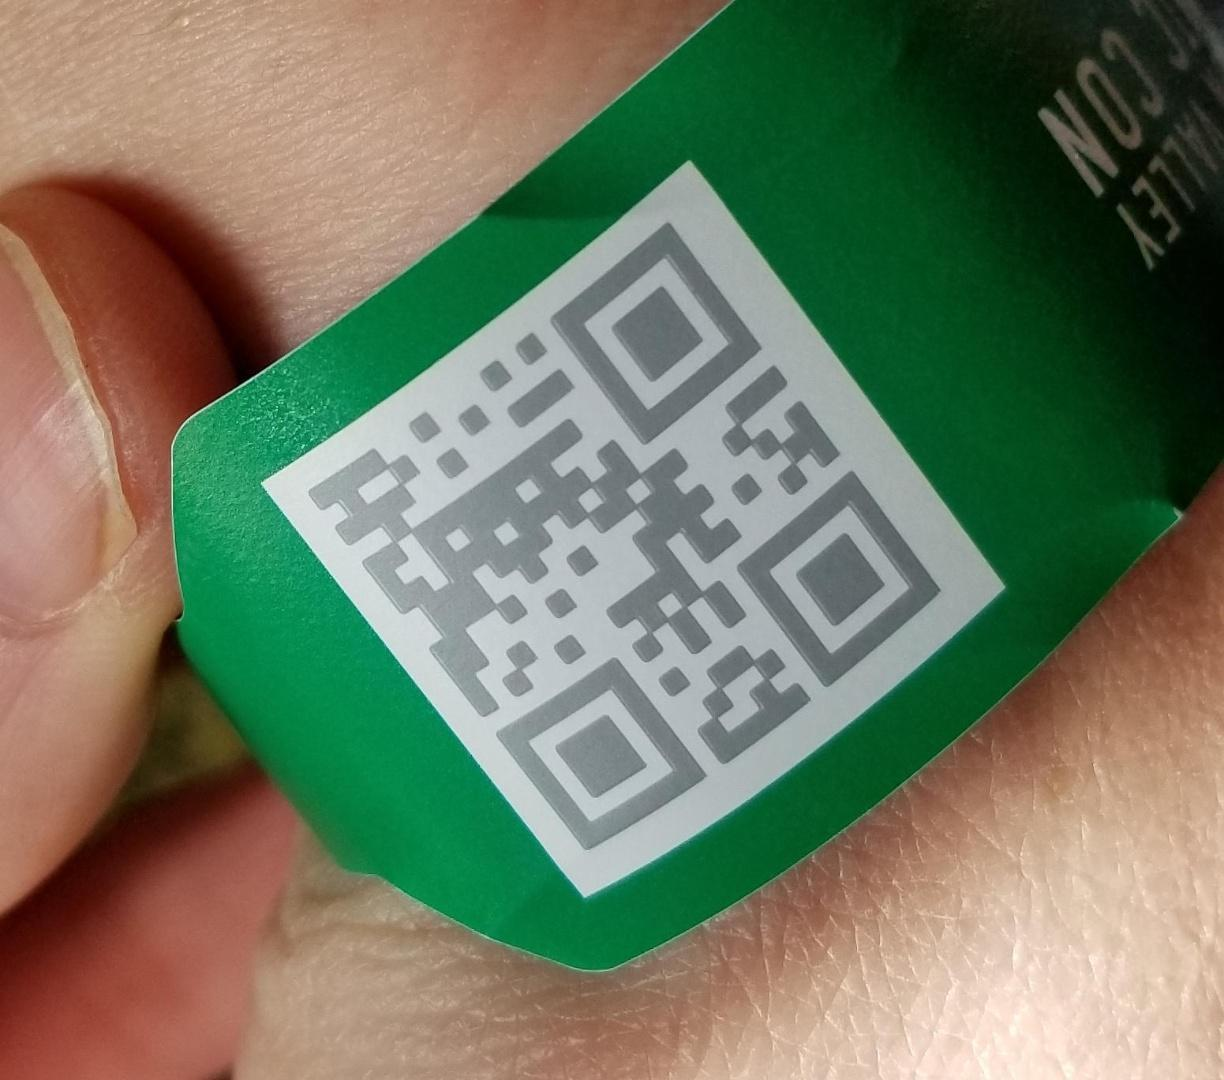Finder pattern: (554, 212, 769, 446), (478, 645, 712, 853), (740, 458, 940, 686)
